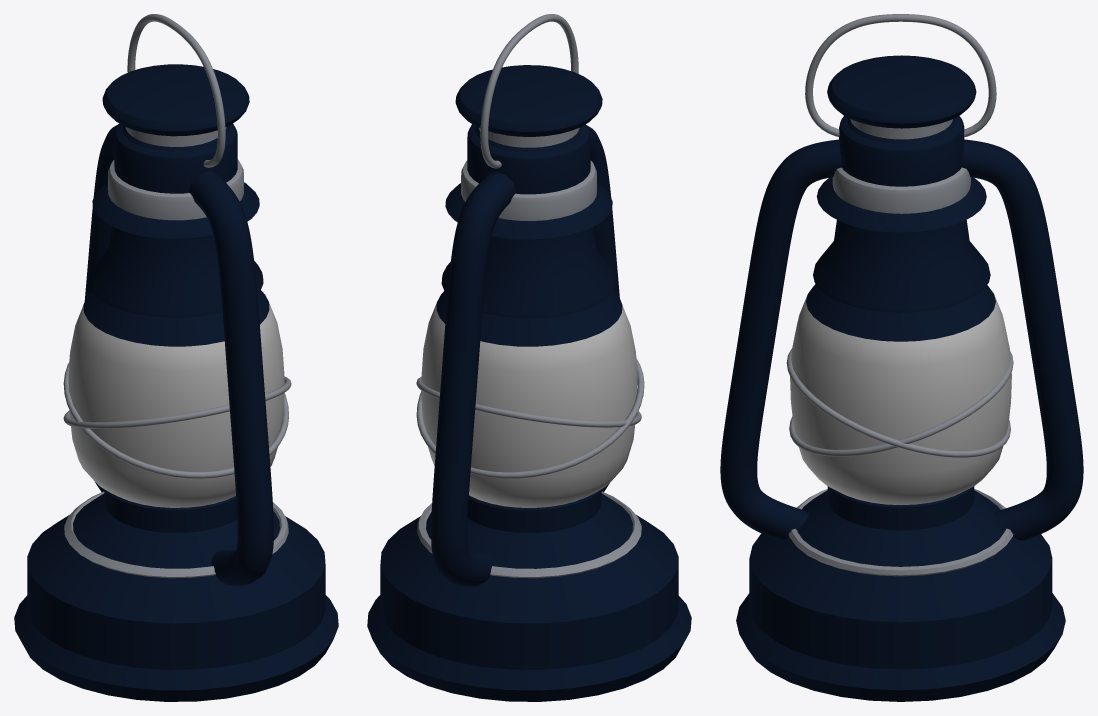
The model's file is F_Lamp_02.fbx.
The picture shows the model from 3 angles, left to right: view 1: azimuth 30°, elevation 25°; view 2: azimuth 150°, elevation 25°; view 3: azimuth 270°, elevation 25°; orthographic projection.
Parts seen in each view (by area): view 1: F_Lamp_02; view 2: F_Lamp_02; view 3: F_Lamp_02.
Part boxes in pixels (bbox=[...]): F_Lamp_02: bbox=[14, 14, 338, 701]; F_Lamp_02: bbox=[367, 14, 691, 701]; F_Lamp_02: bbox=[720, 14, 1083, 701].
Bounding box in the file's own units: 21.53 × 44.78 × 23.71.
